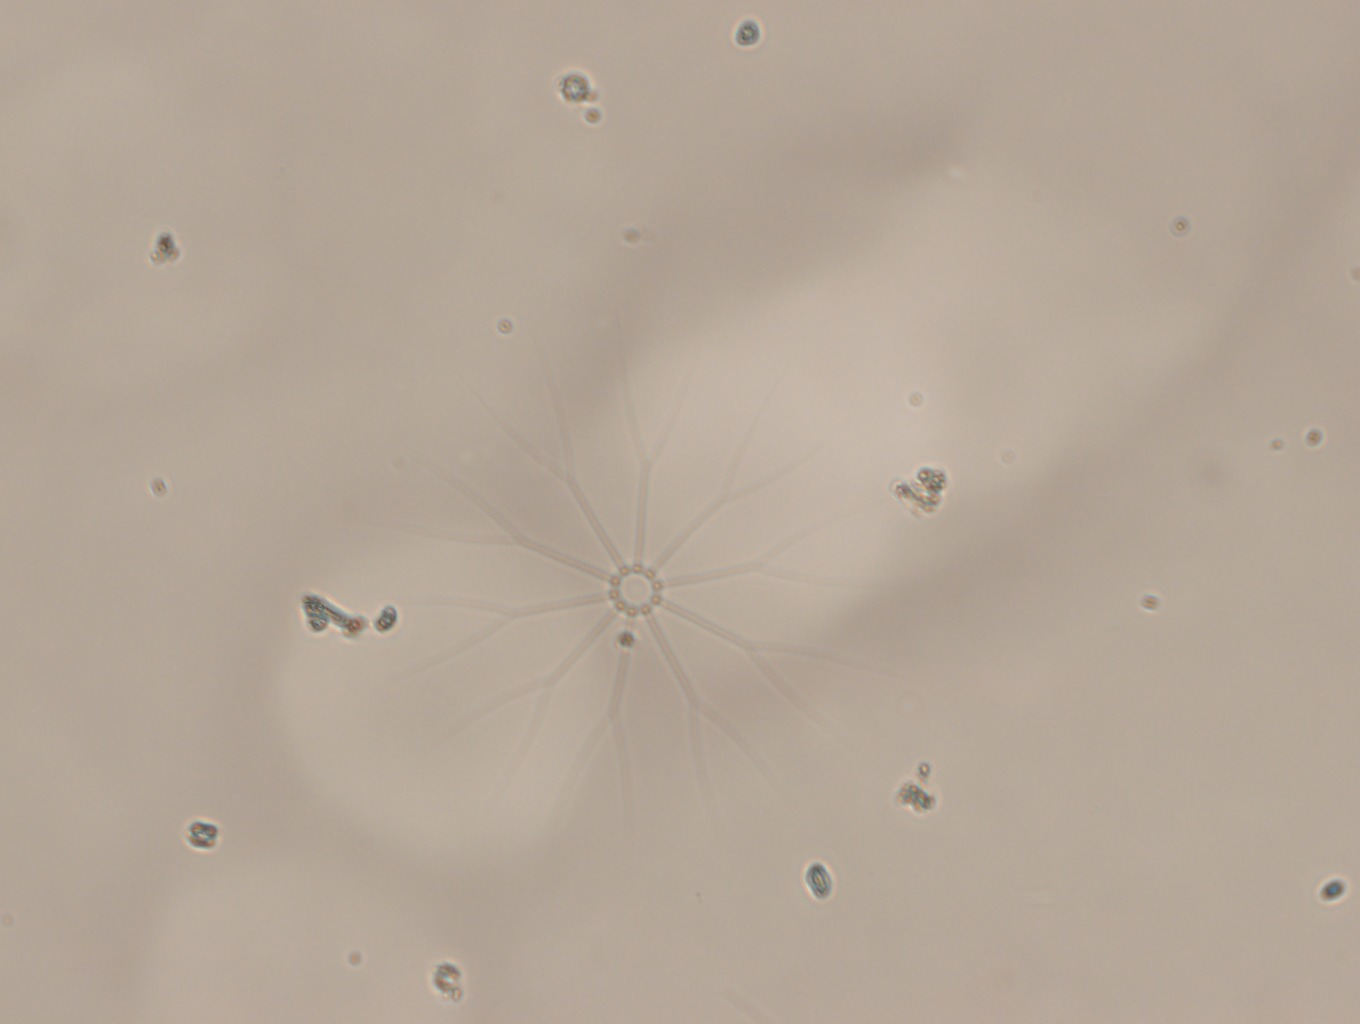bacteriastrum: (381, 340, 886, 834)
